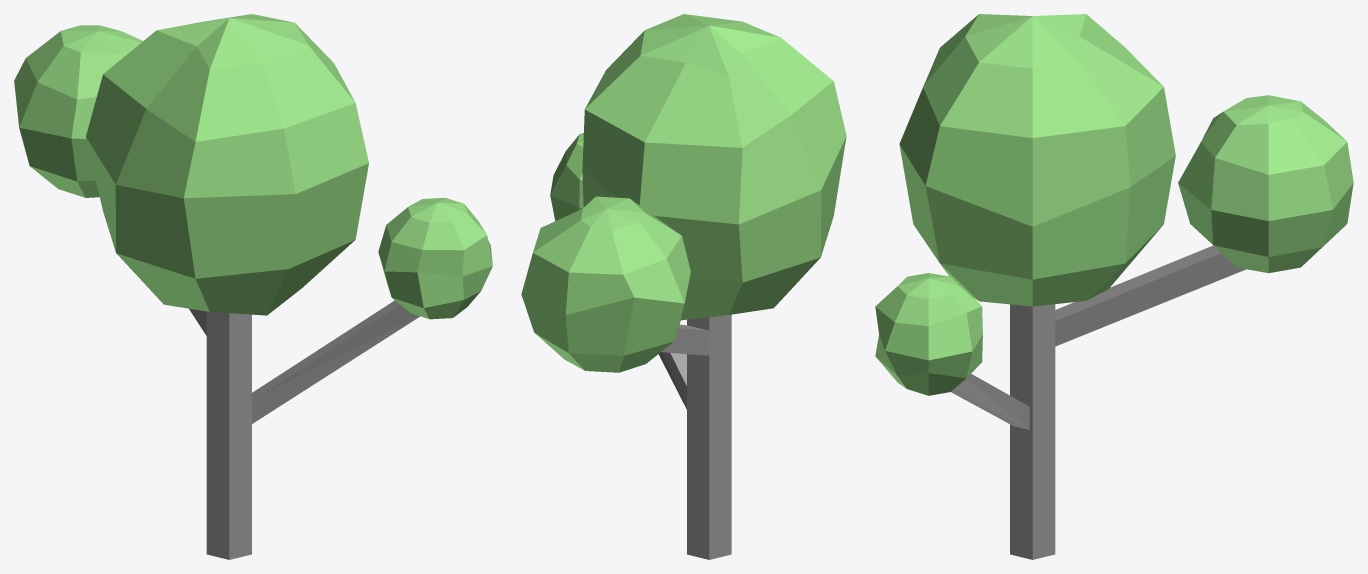
Rendered from Low_Poly_Tree.fbx.
3 renders of one model, left to right at view 1: azimuth 30°, elevation 25°; view 2: azimuth 150°, elevation 25°; view 3: azimuth 270°, elevation 25°, orthographic.
Visible parts, largest first — view 1: pSphere1, pCylinder1, pSphere3, pSphere2; view 2: pSphere1, pSphere3, pCylinder1, pSphere2; view 3: pSphere1, pSphere3, pCylinder1, pSphere2.
Boxes of the visible parts, left/top/right/bottom form: pSphere1: left=86, top=14, right=368, bottom=315; pCylinder1: left=189, top=300, right=419, bottom=559; pSphere3: left=14, top=25, right=142, bottom=197; pSphere2: left=378, top=197, right=492, bottom=319; pSphere1: left=582, top=14, right=846, bottom=320; pSphere3: left=521, top=196, right=690, bottom=372; pCylinder1: left=658, top=314, right=731, bottom=559; pSphere2: left=550, top=133, right=583, bottom=220; pSphere1: left=899, top=14, right=1175, bottom=306; pSphere3: left=1178, top=95, right=1353, bottom=273; pCylinder1: left=951, top=245, right=1245, bottom=559; pSphere2: left=875, top=273, right=982, bottom=395.
Size of the model in its own units: 247 by 388 by 316.
